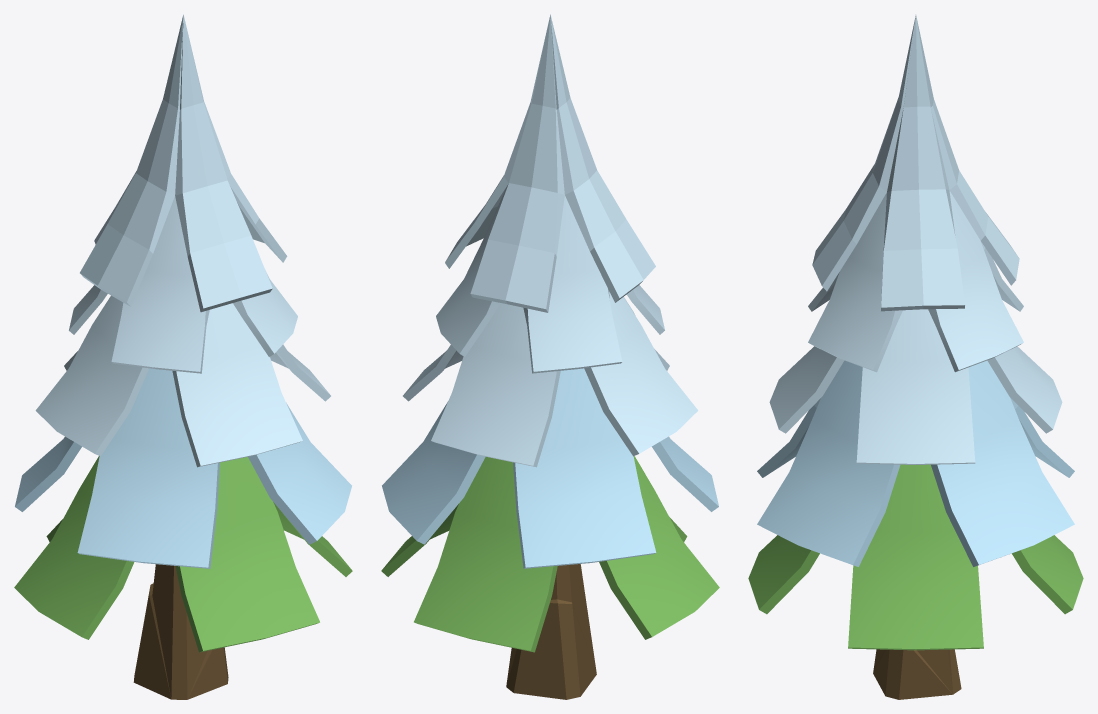
Rendered from model_polytope_snow_fern01.fbx.
The picture shows the model from 3 angles, left to right: view 1: azimuth 30°, elevation 25°; view 2: azimuth 150°, elevation 25°; view 3: azimuth 270°, elevation 25°; orthographic projection.
Visible parts, largest first — view 1: model_polytope_snow_fern01; view 2: model_polytope_snow_fern01; view 3: model_polytope_snow_fern01.
Boxes of the visible parts, x1,y1,x2,y2 form: model_polytope_snow_fern01: (14, 14, 352, 699); model_polytope_snow_fern01: (381, 14, 719, 699); model_polytope_snow_fern01: (748, 15, 1083, 699).
Size of the model in its own units: 202 by 445 by 202.
Materials: 1 (1 with a texture image).
